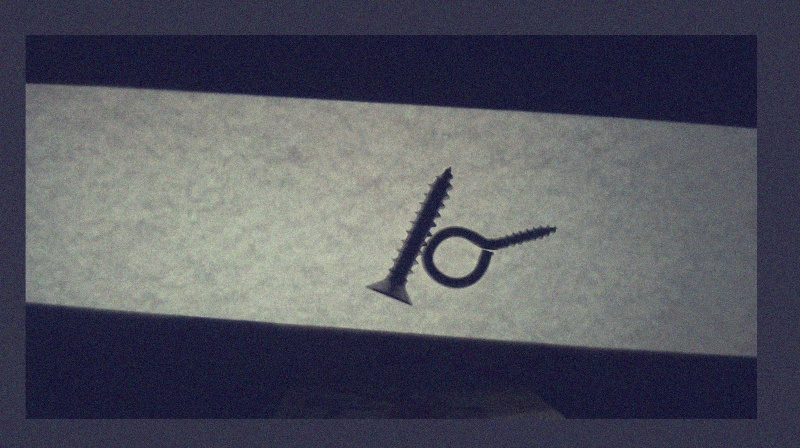O001: (418, 218, 559, 289)
S001: (363, 161, 455, 310)
